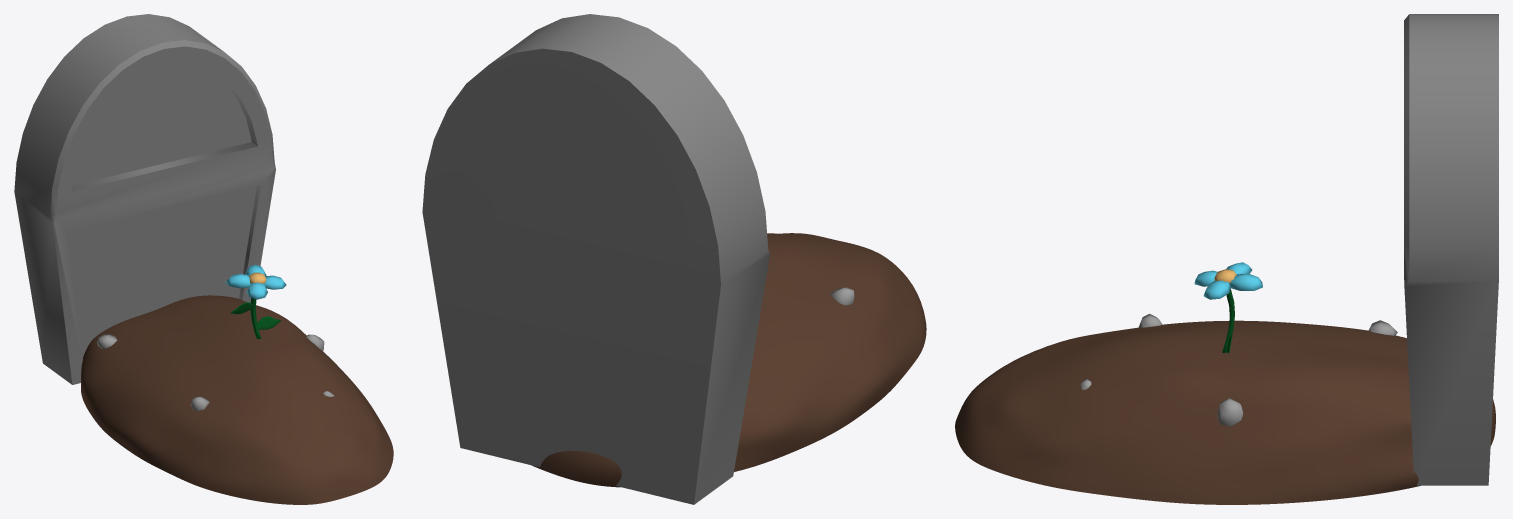
The model's file is grave_tombe.fbx.
3 views of the same model, side by side, from view 1: azimuth 30°, elevation 25°; view 2: azimuth 150°, elevation 25°; view 3: azimuth 270°, elevation 25° (orthographic). The views are drawn at different scales.
Parts seen in each view (by area): view 1: Cube.001; view 2: Cube.001; view 3: Cube.001.
Part boxes in pixels (x1=…): Cube.001: x1=14, y1=14, x2=393, y2=504; Cube.001: x1=422, y1=14, x2=926, y2=504; Cube.001: x1=955, y1=14, x2=1498, y2=504.
Size of the model in its own units: 1.8 by 2.41 by 2.92.
